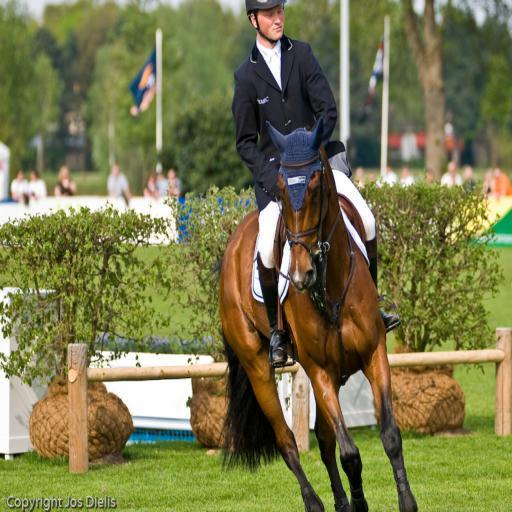horse: (214, 121, 418, 511)
